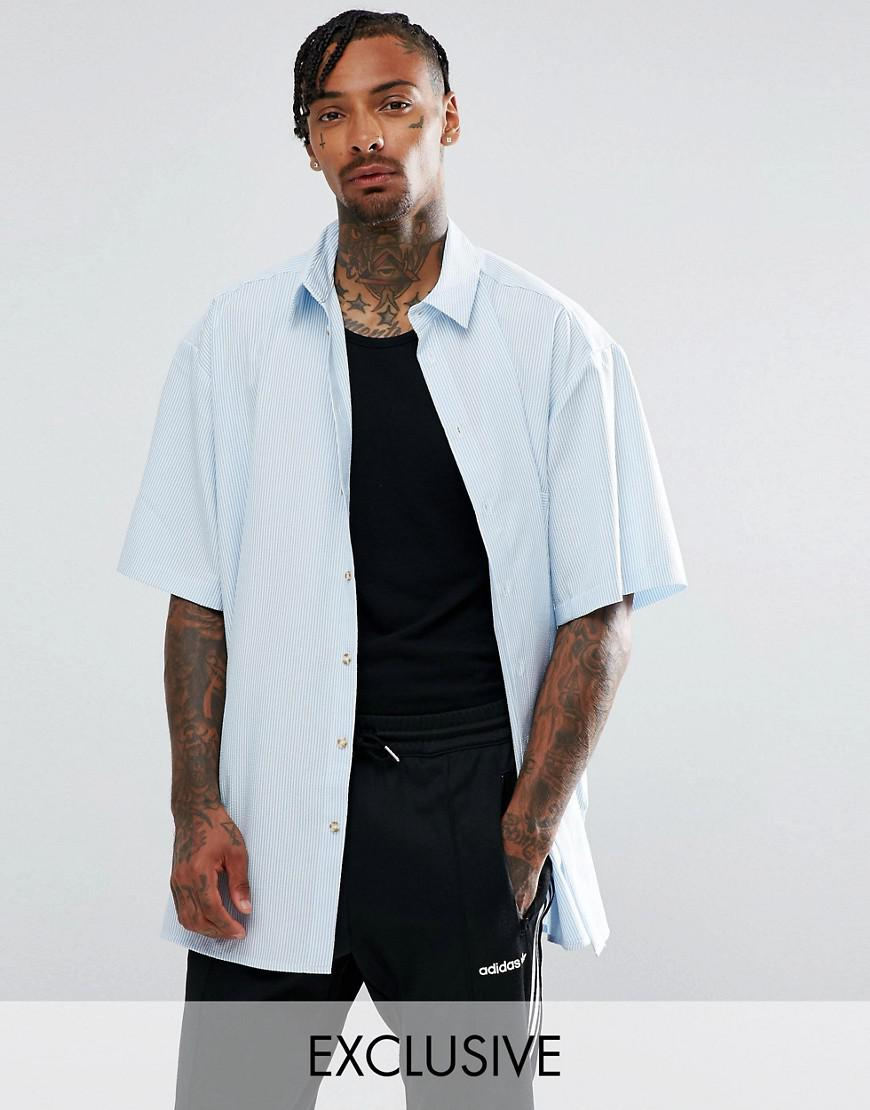teeshirt: (129, 208, 693, 986)
